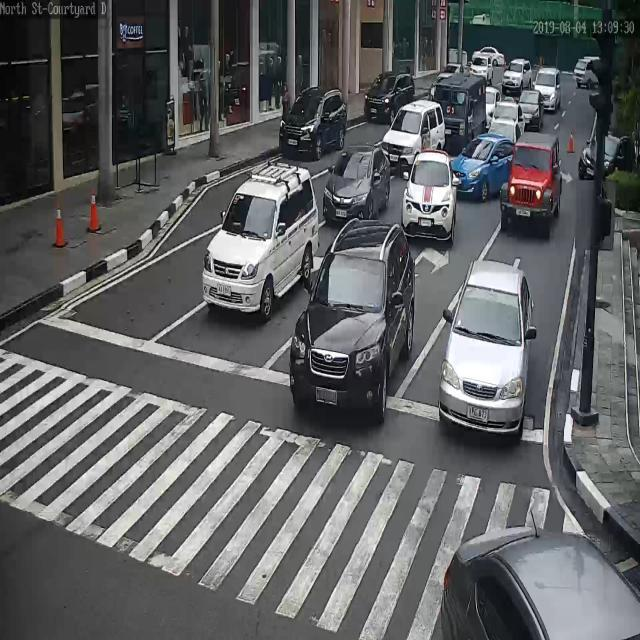bus: (432, 72, 487, 143)
car: (291, 215, 414, 423), (443, 528, 638, 640), (200, 161, 321, 319), (440, 260, 534, 438), (321, 145, 391, 223), (279, 86, 349, 159), (402, 149, 456, 240), (452, 135, 519, 202), (378, 99, 448, 162), (578, 130, 638, 180), (364, 72, 418, 122), (486, 99, 524, 140), (518, 91, 548, 129), (500, 60, 532, 93), (437, 64, 469, 87), (471, 45, 506, 65), (486, 89, 503, 126), (471, 58, 493, 84)
tricycle: (500, 135, 565, 230)
van: (533, 68, 563, 108), (573, 58, 601, 88)
